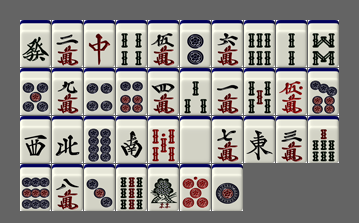0m: (276, 68, 307, 115)
0p: (180, 164, 211, 211)
0s: (148, 116, 179, 163)
1m: (212, 68, 243, 115)
1p: (212, 164, 243, 211)
1s: (148, 164, 179, 211)
1z: (244, 116, 275, 163)
2m: (52, 20, 83, 67)
2p: (180, 20, 211, 67)
2s: (276, 20, 307, 67)
2z: (116, 116, 147, 163)
3m: (276, 116, 307, 163)
3p: (84, 164, 115, 211)
3s: (180, 68, 211, 115)
3z: (20, 116, 51, 163)
4m: (148, 68, 179, 115)
4p: (84, 68, 115, 115)
4s: (116, 20, 147, 67)
4z: (52, 116, 83, 163)
5m: (148, 20, 179, 67)
5p: (20, 68, 51, 115)
5s: (244, 68, 275, 115)
5z: (180, 116, 211, 163)
6m: (212, 20, 243, 67)
6p: (116, 68, 147, 115)
6s: (244, 20, 275, 67)
6z: (20, 20, 51, 67)
7m: (212, 116, 243, 163)
7p: (308, 68, 339, 115)
7s: (308, 116, 339, 163)
7z: (84, 20, 115, 67)
8m: (52, 164, 83, 211)
8p: (84, 116, 115, 163)
8s: (308, 20, 339, 67)
9m: (52, 68, 83, 115)
9p: (20, 164, 51, 211)
9s: (116, 164, 147, 211)
